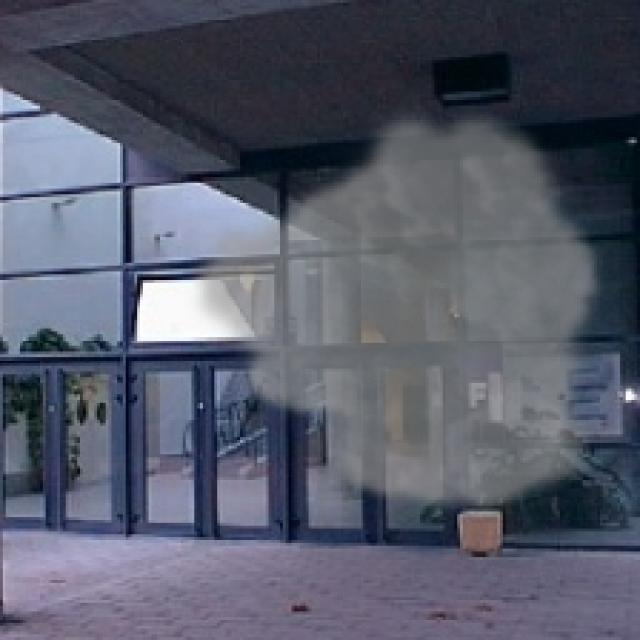Smoke: (183, 100, 606, 520)
